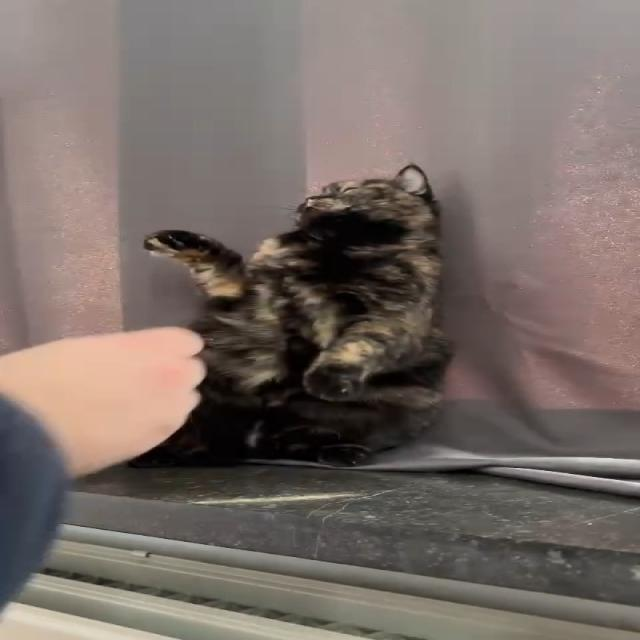authorized: (127, 162, 454, 469)
